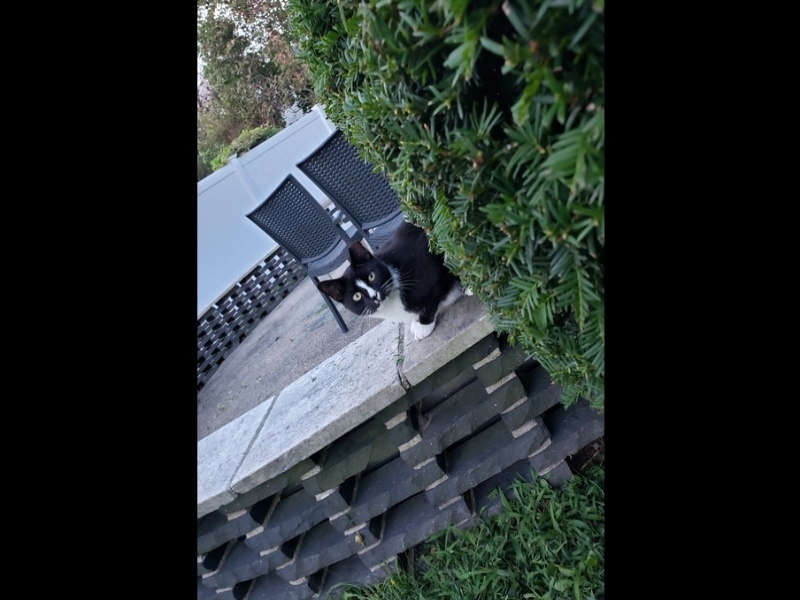cat: (311, 219, 485, 341)
